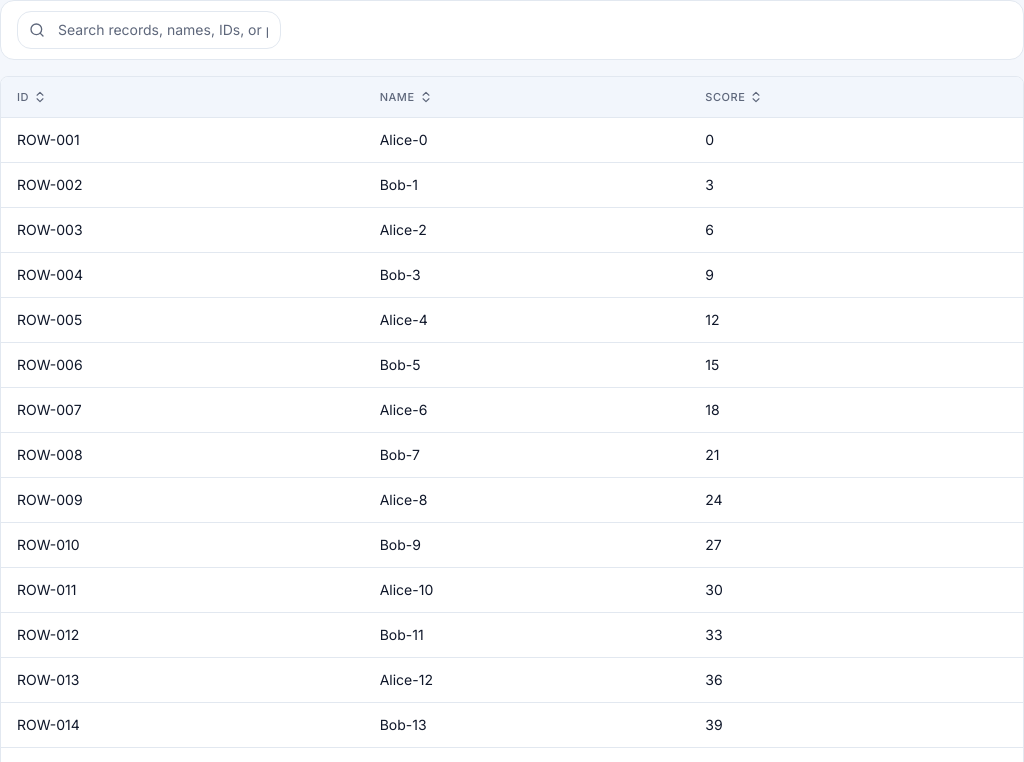
Test: DataTable search › filters rows by search term
Step 1. Type "Alice" into the field with placeholder "Search records, names, IDs, or projects" → (149,30), box [17,11,281,49]
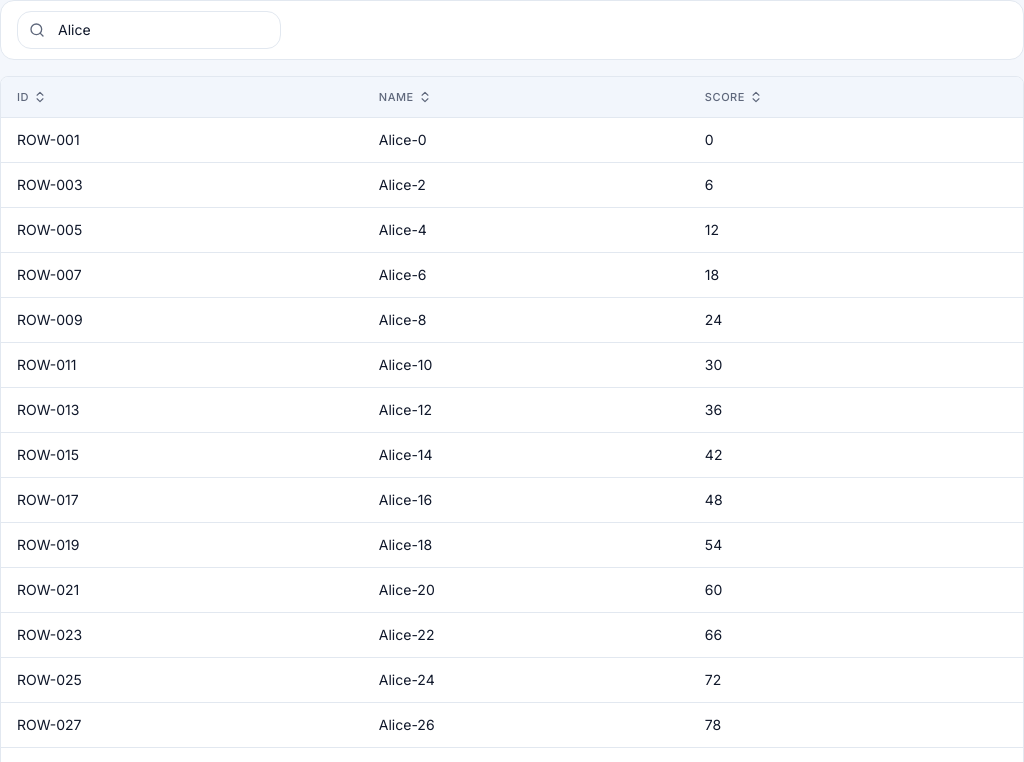
Expected: the text "Alice-0" is shown, [363,118,689,162]
Now the text "Bob" is gone
